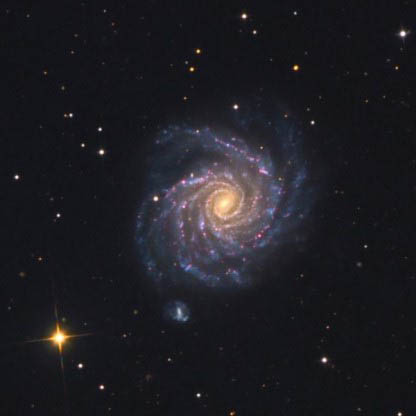NGC 1232: (120, 89, 330, 335)
